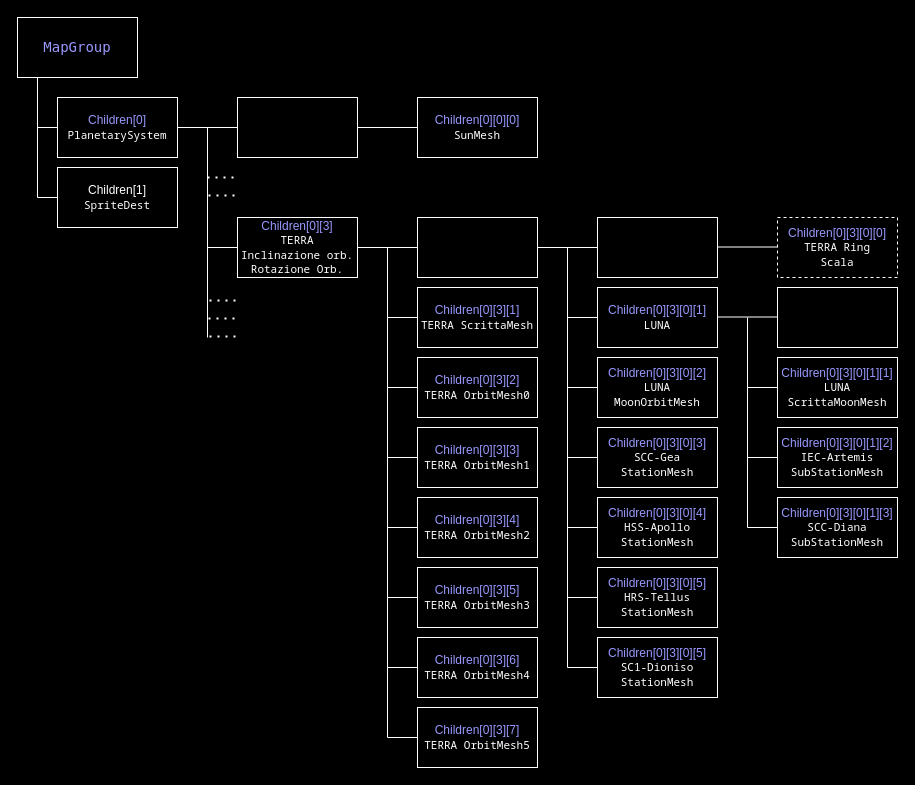
Image size: 915x785. Some labels were removed from this diagram. The shapes that lost their labels are listed below. From the top down, each one's centre as x and y in pixels, then its label:
(x=297, y=127): Children[0][0] SunObject
(x=477, y=247): Children[0][3][0] TERRA Object z Raggio Orb.
(x=657, y=247): Children[0][3][0][0] TERRA Mesh Incl. Asse Scala
(x=837, y=317): Children[0][3][0][1][0] LUNA Mesh Scala
